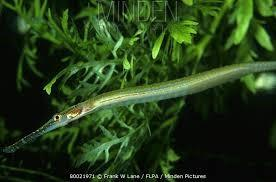Long-Snouted Pipefish: (1, 58, 276, 171)
